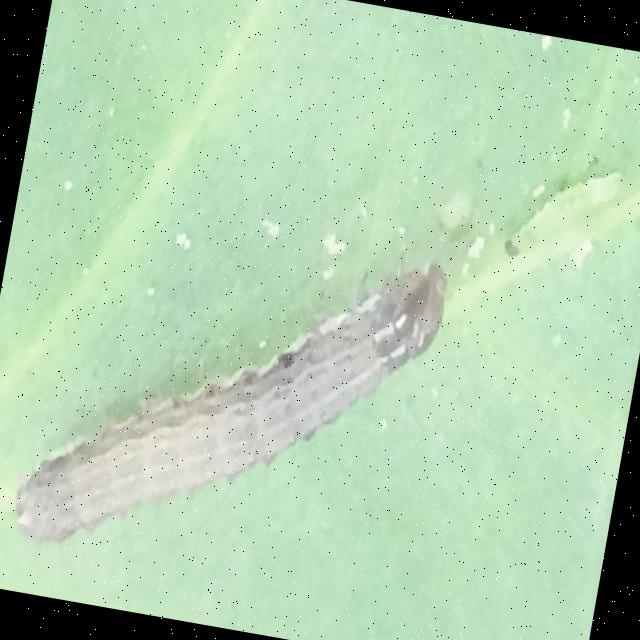worm: (10, 199, 456, 610)
